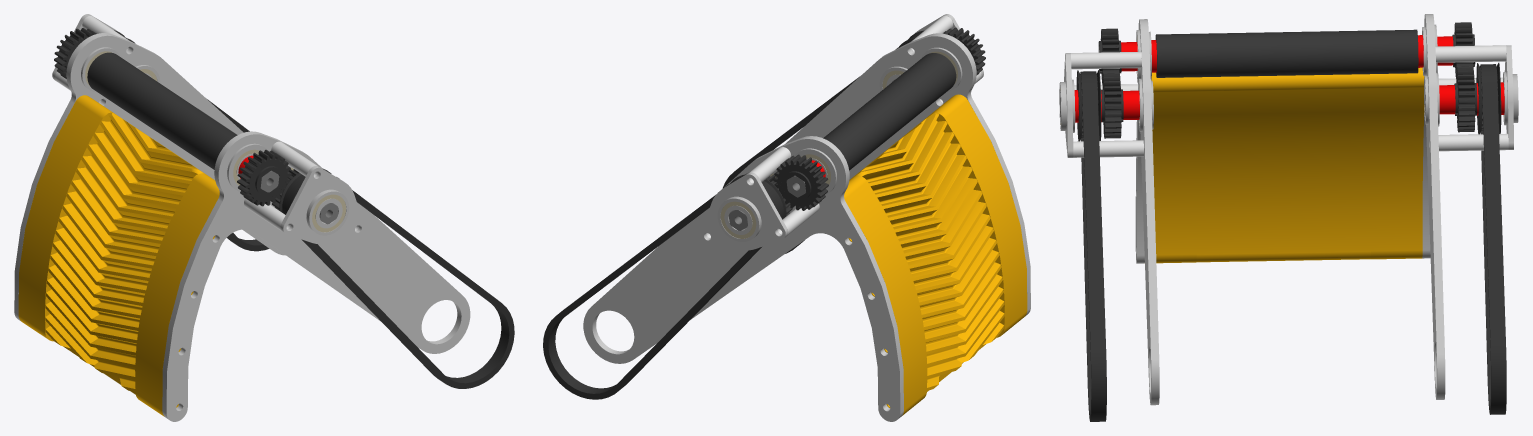
3 views of the same model, side by side, from view 1: azimuth 30°, elevation 25°; view 2: azimuth 150°, elevation 25°; view 3: azimuth 270°, elevation 25° (orthographic). The views are drawn at different scales.
Visible parts, largest first — view 1: Spur gear (153 teeth), Part 17, Sushi Roller (60A, 1/2" Hex Bore) (×6), Part 18, 95T 5M 9mm Wide Belt (×2), Part 19, 24t Steel Spur Gear (20 DP, 1/2" Hex Bore) (×2), 1/2" Rounded Hex (13.75mm) ID Bearing (1.125" OD, 0.313" WD, (×2), #10 Aluminum Spacer (1-5/8" L 3/8" OD) (×2); view 2: Spur gear (153 teeth), Part 18, Part 17, Sushi Roller (60A, 1/2" Hex Bore) (×6), 95T 5M 9mm Wide Belt (×2), Part 19, 24t Steel Spur Gear (20 DP, 1/2" Hex Bore) (×2), 1/2" Rounded Hex (13.75mm) ID Bearing (1.125" OD, 0.313" WD, (×2), #10 Aluminum Spacer (1-5/8" L 3/8" OD) (×2); view 3: Spur gear (153 teeth), 95T 5M 9mm Wide Belt (×2), Sushi Roller (60A, 1/2" Hex Bore) (×6), Part 18, Part 17, #10 Aluminum Spacer (1-5/8" L 3/8" OD) (×4), 28t Steel Spur Gear (20 DP, 1/2" Hex Bore) (×2), Part 19 (×2), 24t Steel Spur Gear (20 DP, 1/2" Hex Bore) (×2), 24t Custom HTD 5mm Pulley (0.375" Wide, 1/2" Hex Bore w/ TTB (×2), 1/2" Rounded Hex (13.75mm) ID Bearing (1.125" OD, 0.313" WD, (×2), HEX Spacer 0.375 in (×2).
Part boxes in pixels (<box>): Spur gear (153 teeth): <box>18,95,219,416</box>; Part 17: <box>162,131,470,421</box>; Sushi Roller (60A, 1/2" Hex Bore) (×6): <box>87,52,237,169</box>; Part 18: <box>14,33,285,320</box>; 95T 5M 9mm Wide Belt (×2): <box>120,34,514,388</box>; Part 19: <box>280,166,364,243</box>; 24t Steel Spur Gear (20 DP, 1/2" Hex Bore) (×2): <box>54,28,291,206</box>; 1/2" Rounded Hex (13.75mm) ID Bearing (1.125" OD, 0.313" WD, (×2): <box>227,143,349,235</box>; #10 Aluminum Spacer (1-5/8" L 3/8" OD) (×2): <box>244,141,317,230</box>; Spur gear (153 teeth): <box>844,94,1027,415</box>; Part 18: <box>583,136,903,421</box>; Part 17: <box>785,33,1030,316</box>; Sushi Roller (60A, 1/2" Hex Bore) (×6): <box>823,53,956,170</box>; 95T 5M 9mm Wide Belt (×2): <box>543,33,921,399</box>; Part 19: <box>700,172,788,250</box>; 24t Steel Spur Gear (20 DP, 1/2" Hex Bore) (×2): <box>773,27,985,210</box>; 1/2" Rounded Hex (13.75mm) ID Bearing (1.125" OD, 0.313" WD, (×2): <box>717,148,836,241</box>; #10 Aluminum Spacer (1-5/8" L 3/8" OD) (×2): <box>749,147,819,235</box>; Spur gear (153 teeth): <box>1151,67,1424,263</box>; 95T 5M 9mm Wide Belt (×2): <box>1080,64,1506,421</box>; Sushi Roller (60A, 1/2" Hex Bore) (×6): <box>1155,29,1418,77</box>; Part 18: <box>1422,14,1445,399</box>; Part 17: <box>1135,19,1159,405</box>; #10 Aluminum Spacer (1-5/8" L 3/8" OD) (×4): <box>1071,45,1508,157</box>; 28t Steel Spur Gear (20 DP, 1/2" Hex Bore) (×2): <box>1101,66,1477,138</box>; Part 19 (×2): <box>1064,45,1513,157</box>; 24t Steel Spur Gear (20 DP, 1/2" Hex Bore) (×2): <box>1098,22,1475,84</box>; 24t Custom HTD 5mm Pulley (0.375" Wide, 1/2" Hex Bore w/ TTB (×2): <box>1076,62,1501,141</box>; 1/2" Rounded Hex (13.75mm) ID Bearing (1.125" OD, 0.313" WD, (×2): <box>1059,72,1518,132</box>; HEX Spacer 0.375 in (×2): <box>1123,85,1455,119</box>.
Size of the model in its own units: 0.2351 by 0.1888 by 0.2676.
